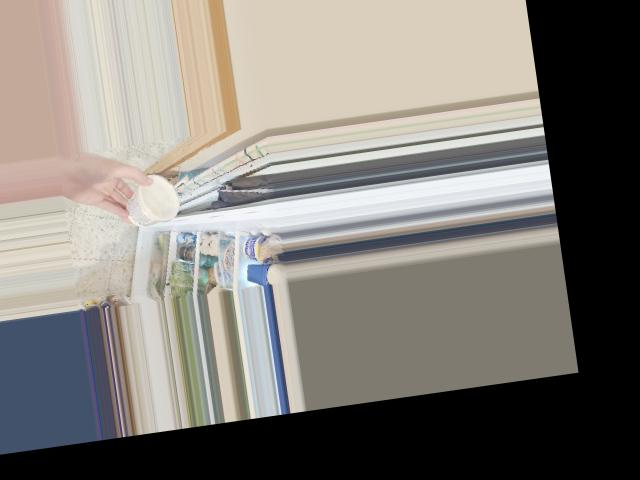cotage: (117, 166, 180, 228)
